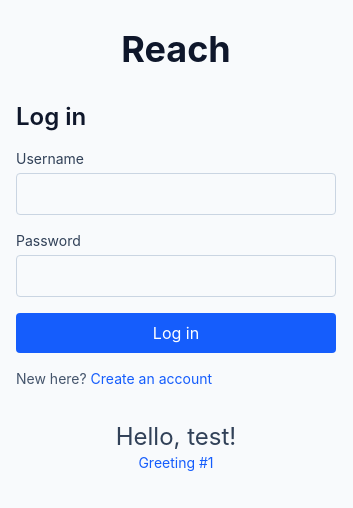
Test: hides the details of unexpected errors
This screenshot has width=353, height=508.
expect the heading "Log in" is shown: met, box [16,102,86,131]
Type "sadra" into the field labelled "Username" at (176, 194), box [16,173,336,215]
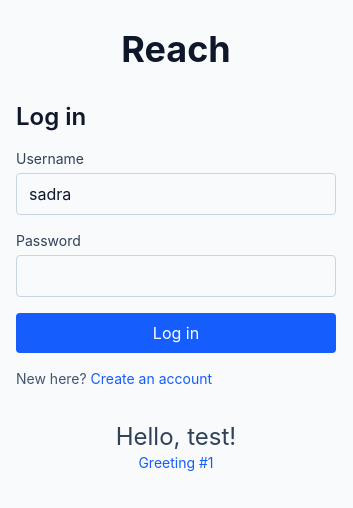
Type "purple tram winter" into the password field labelled "Password" at (176, 276), box [16,255,336,297]
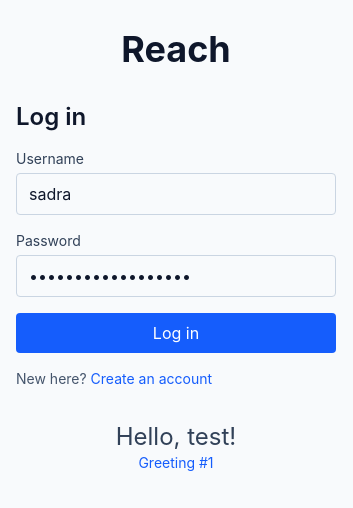
Click the button "Log in" at (176, 333), box [16,313,336,353]
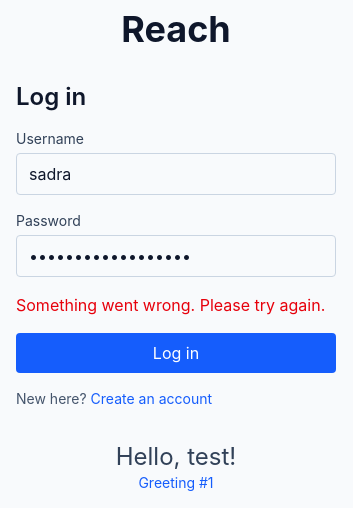
expect the text "Something went wrong. Please try again." is shown: met, box [16,293,336,317]
